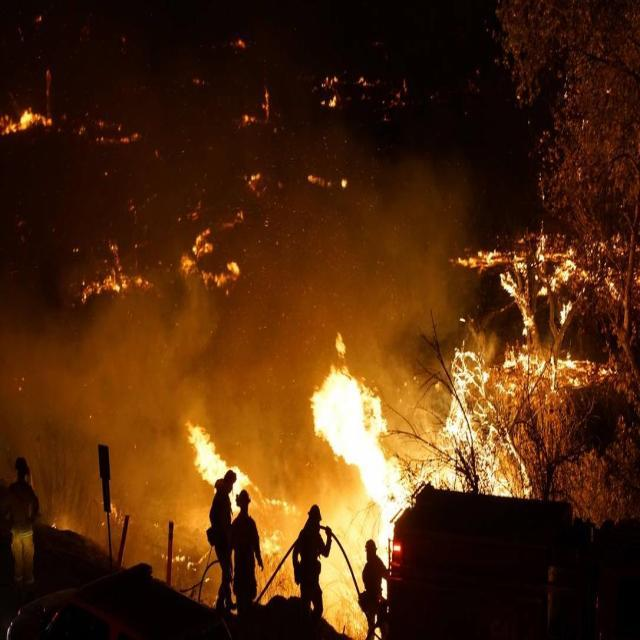Fire: (451, 232, 596, 498), (306, 340, 414, 528), (180, 412, 266, 516), (176, 218, 250, 296), (73, 242, 155, 306), (0, 99, 54, 145)
